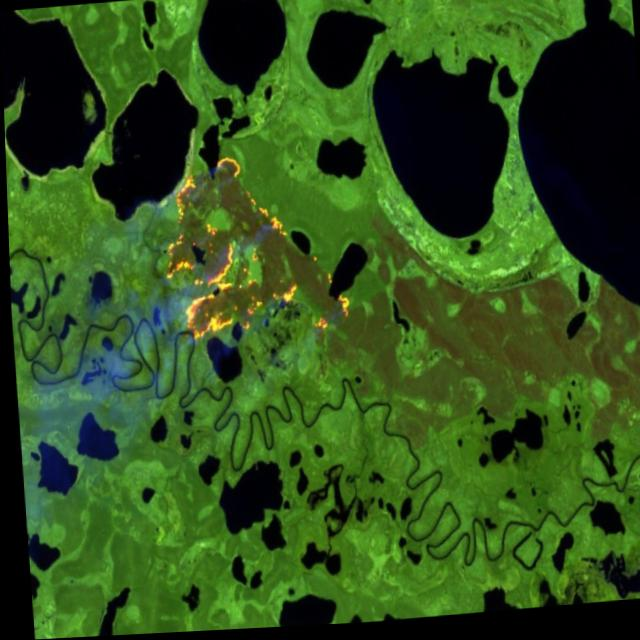fire: (141, 135, 355, 362)
